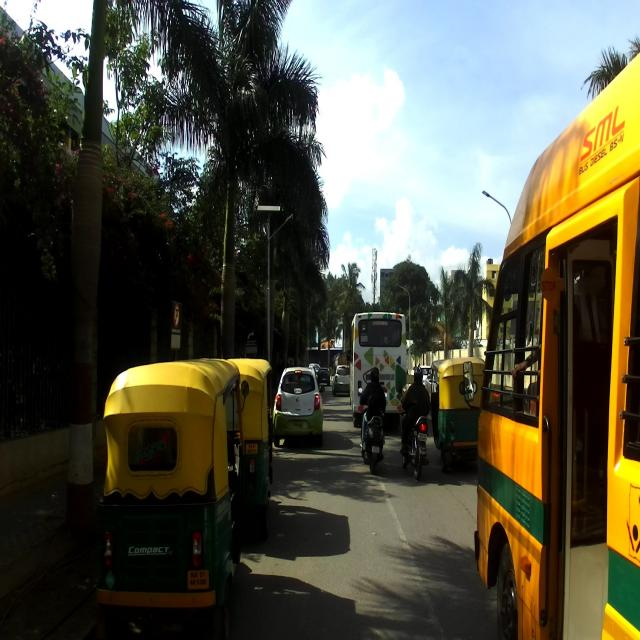autorickshaw: (93, 358, 249, 639), (223, 357, 279, 542), (427, 355, 485, 473)
bus: (462, 51, 640, 640)
motorcycle: (399, 385, 430, 481)
scooter: (356, 382, 390, 473)
